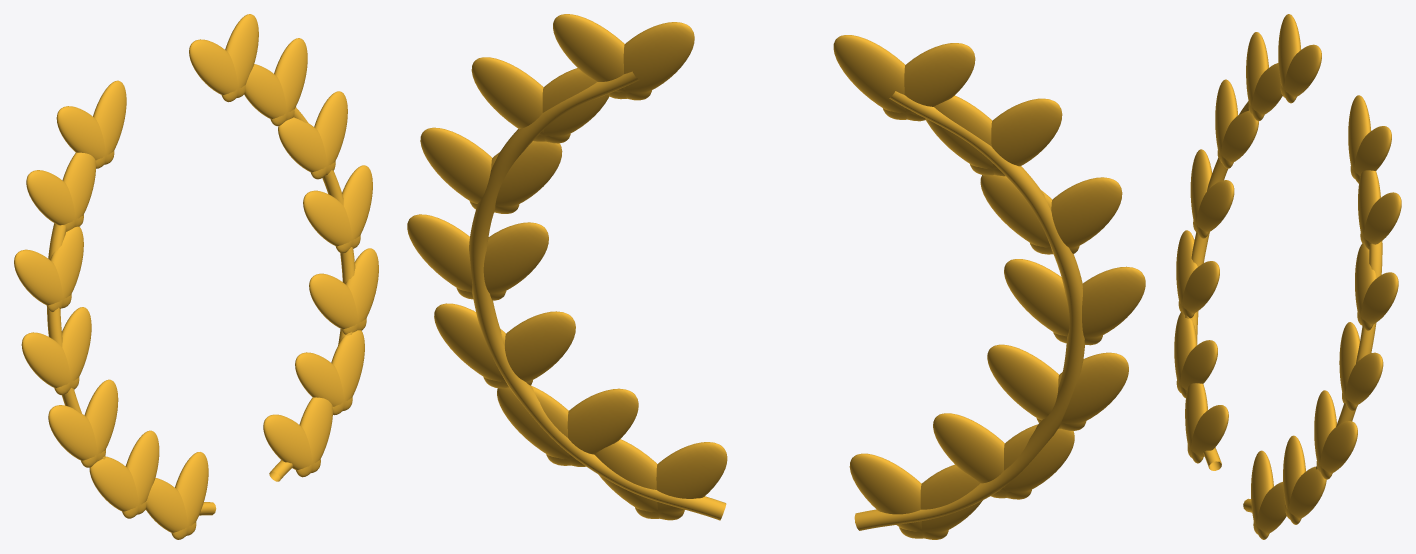
Rendered from laurel.glb.
3 renders of one model, left to right at view 1: azimuth 30°, elevation 25°; view 2: azimuth 150°, elevation 25°; view 3: azimuth 270°, elevation 25°, orthographic. The views are drawn at different scales.
Visible parts, largest first — view 1: Left leaf 4-1, Right leaf 3--1, Right leaf 2--1, Left leaf 5-1, Left leaf 3-1, Right leaf 6--1, Right leaf 0--1, Left leaf 2-1, Left leaf 1-1, Right leaf 4--1, Left leaf 6-1, Right leaf 1--1 (+18 smaller); view 2: Left laurel branch, Right laurel branch, Right leaf 6--1, Right leaf 2--1, Left leaf 4-1, Left leaf 5-1, Left leaf 6--1, Left leaf 2--1, Right leaf 4-1, Left leaf 6-1, Right leaf 1--1, Right leaf 5-1 (+18 smaller); view 3: Right leaf 4-1, Right leaf 5-1, Left leaf 6--1, Left leaf 2--1, Left leaf 3--1, Right leaf 3-1, Right leaf 2-1, Left leaf 0--1, Left leaf 4--1, Right leaf 1-1, Right leaf 6-1, Left leaf 1--1 (+18 smaller).
Part boxes in pixels (box(x1,y1,x2,y2)): Left leaf 4-1: box(14, 249, 71, 308); Right leaf 3--1: box(303, 190, 360, 248); Right leaf 2--1: box(309, 273, 366, 330); Left leaf 5-1: box(26, 170, 83, 226); Left leaf 3-1: box(21, 332, 79, 389); Right leaf 6--1: box(189, 39, 245, 97); Right leaf 0--1: box(263, 414, 320, 472); Left leaf 2-1: box(48, 405, 105, 461); Left leaf 1-1: box(89, 456, 146, 514); Right leaf 4--1: box(278, 117, 335, 175); Left leaf 6-1: box(56, 106, 114, 164); Right leaf 1--1: box(295, 352, 352, 410); Left laurel branch: box(854, 91, 1084, 530); Right laurel branch: box(469, 71, 726, 520); Right leaf 6--1: box(608, 22, 694, 99); Right leaf 2--1: box(483, 311, 575, 388); Left leaf 4-1: box(1030, 177, 1122, 254); Left leaf 5-1: box(970, 98, 1062, 175); Left leaf 6--1: box(833, 35, 925, 121); Left leaf 2--1: box(987, 344, 1086, 430); Right leaf 4-1: box(420, 127, 519, 213); Left leaf 6-1: box(883, 43, 975, 119); Right leaf 1--1: box(546, 388, 638, 465); Right leaf 5-1: box(471, 57, 570, 143); Right leaf 4-1: box(1357, 272, 1398, 324); Right leaf 5-1: box(1360, 192, 1401, 244); Left leaf 6--1: box(1280, 44, 1321, 97); Left leaf 2--1: box(1178, 261, 1219, 313); Left leaf 3--1: box(1193, 180, 1234, 232); Right leaf 3-1: box(1342, 352, 1383, 404); Right leaf 2-1: box(1316, 421, 1357, 473); Left leaf 0--1: box(1187, 405, 1228, 457); Left leaf 4--1: box(1217, 110, 1258, 162); Right leaf 1-1: box(1285, 466, 1326, 519); Right leaf 6-1: box(1350, 126, 1391, 178); Left leaf 1--1: box(1176, 340, 1217, 392).
Size of the model in its own units: 4.42 by 3.94 by 1.99.
